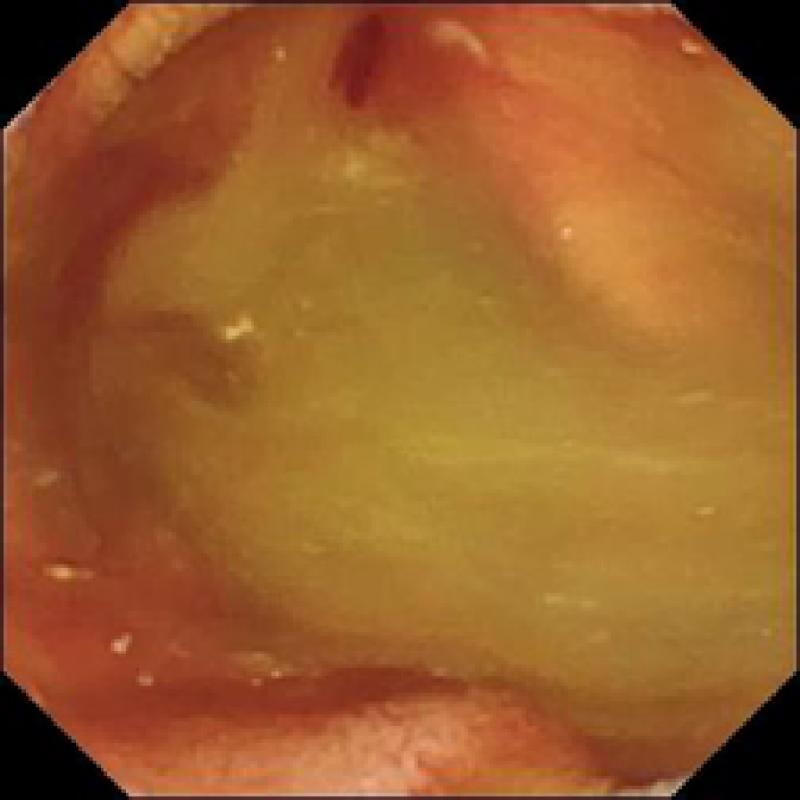bleeding: (64, 476, 460, 729), (42, 106, 213, 378), (325, 0, 468, 114)
